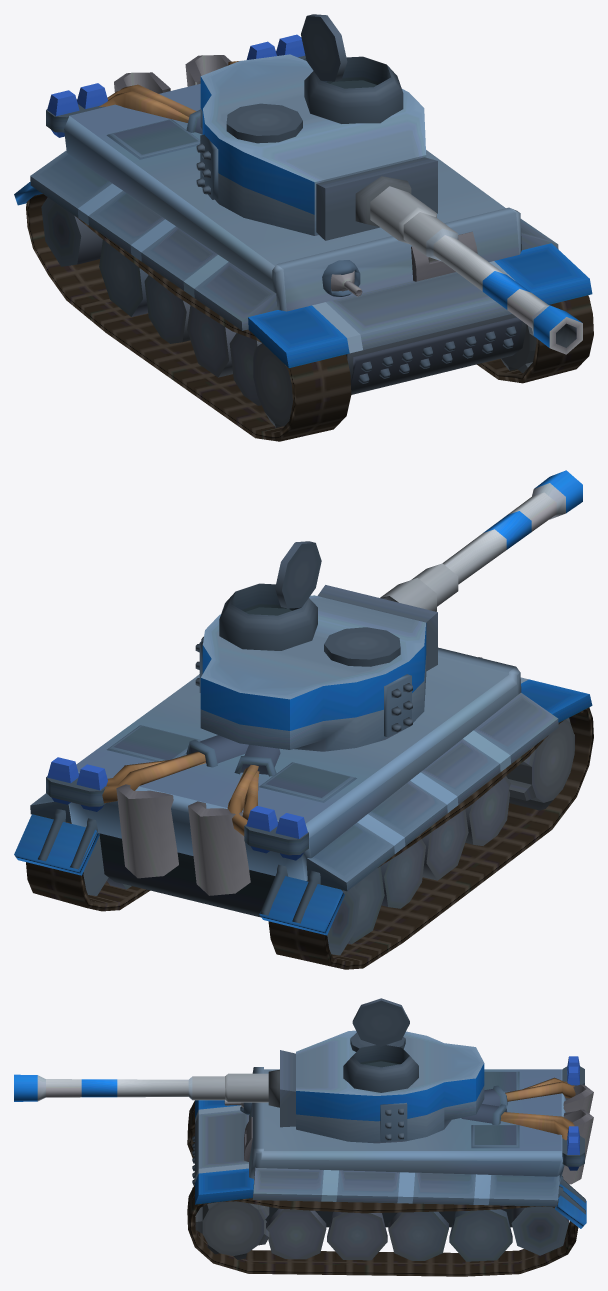
The model's file is Tank_Friendly.fbx.
3 renders of one model, top to bottom at view 1: azimuth 30°, elevation 25°; view 2: azimuth 150°, elevation 25°; view 3: azimuth 270°, elevation 25°, orthographic. The views are drawn at different scales.
Parts seen in each view (by area): view 1: Body, Command, RightFlippers, Barrel, LeftFlippers; view 2: Body, Command, RightFlippers, Barrel, LeftFlippers; view 3: Body, Command, LeftFlippers, Barrel.
Boxes of the visible parts, x1=… form: Body: x1=14, y1=34, x2=592, y2=427; Command: x1=196, y1=14, x2=437, y2=244; RightFlippers: x1=26, y1=191, x2=351, y2=441; Barrel: x1=403, y1=212, x2=582, y2=354; LeftFlippers: x1=477, y1=295, x2=593, y2=383; Body: x1=14, y1=647, x2=592, y2=955; Command: x1=195, y1=541, x2=437, y2=751; RightFlippers: x1=268, y1=707, x2=593, y2=969; Barrel: x1=411, y1=470, x2=582, y2=606; LeftFlippers: x1=26, y1=819, x2=150, y2=911; Body: x1=192, y1=1056, x2=593, y2=1261; Command: x1=225, y1=998, x2=484, y2=1143; LeftFlippers: x1=187, y1=1185, x2=578, y2=1276; Barrel: x1=14, y1=1074, x2=225, y2=1101.
Bounding box in the file's own units: 2.92 × 2.82 × 6.44.
Materials: 2 (2 with a texture image).
